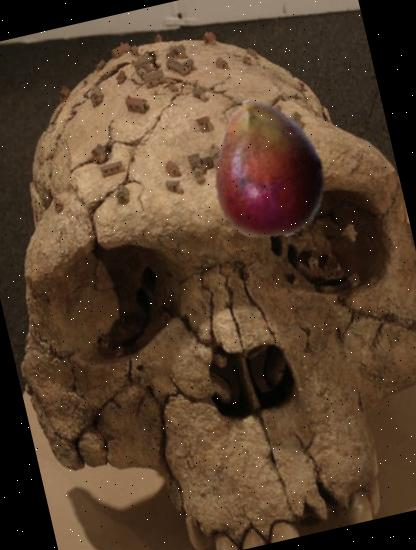Mango: (180, 83, 350, 253)
